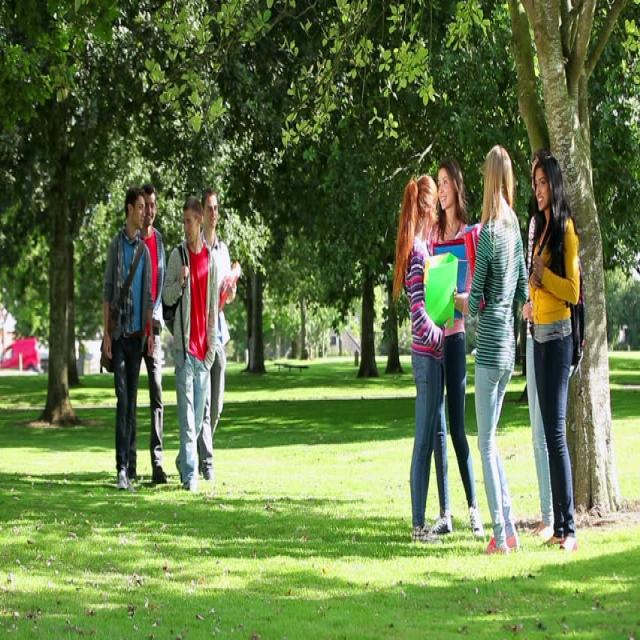body: (466, 143, 530, 557), (391, 172, 459, 547), (421, 155, 483, 536), (527, 154, 586, 554), (98, 182, 156, 490), (160, 193, 219, 492), (522, 148, 556, 540), (125, 181, 168, 484), (195, 185, 239, 480)
